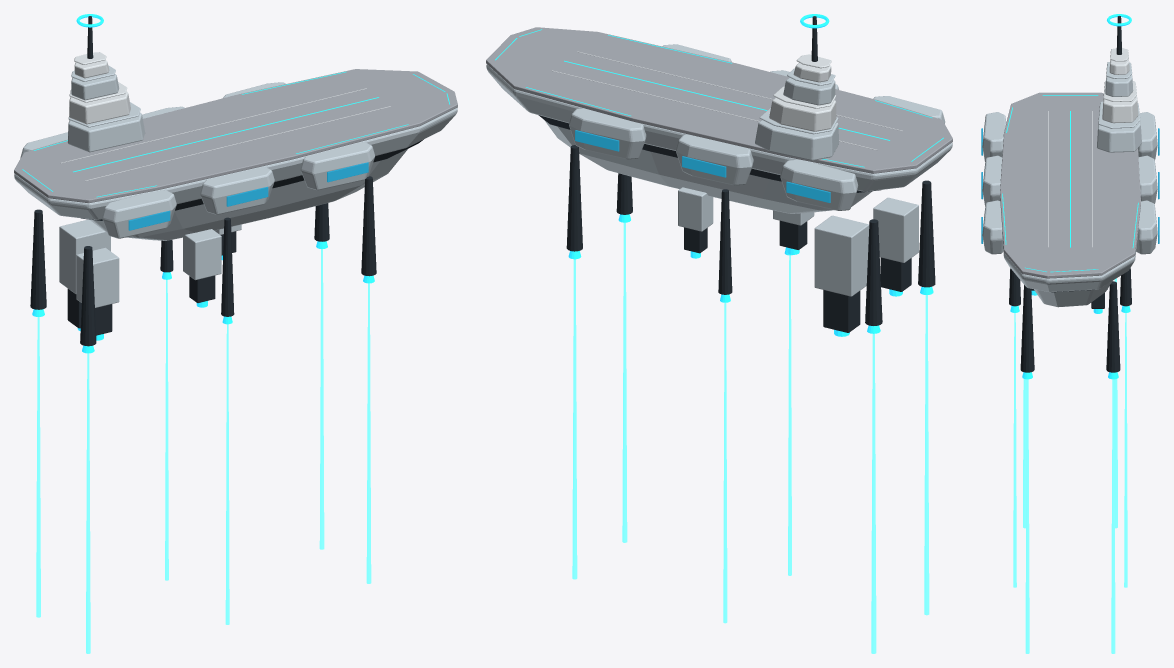
The model's file is vanguard-ozone-base-v3-lod1.glb.
3 views of the same model, side by side, from view 1: azimuth 30°, elevation 25°; view 2: azimuth 150°, elevation 25°; view 3: azimuth 270°, elevation 25° (orthographic). The views are drawn at different scales.
Visible parts, largest first — view 1: vanguard_ozone_base__lod1__Vanguard deck surface far, vanguard_ozone_base__lod1__Vanguard hull plating far, vanguard_ozone_base__lod1__Vanguard structural frame far, vanguard_ozone_base__lod1__Vanguard lift beam far, vanguard_ozone_base__lod1__Vanguard light armor far, vanguard_ozone_base__lod1__Vanguard emissive guidance far, vanguard_ozone_base__lod1__Vanguard recessed glazing far; view 2: vanguard_ozone_base__lod1__Vanguard hull plating far, vanguard_ozone_base__lod1__Vanguard deck surface far, vanguard_ozone_base__lod1__Vanguard structural frame far, vanguard_ozone_base__lod1__Vanguard lift beam far, vanguard_ozone_base__lod1__Vanguard light armor far, vanguard_ozone_base__lod1__Vanguard emissive guidance far, vanguard_ozone_base__lod1__Vanguard recessed glazing far; view 3: vanguard_ozone_base__lod1__Vanguard deck surface far, vanguard_ozone_base__lod1__Vanguard hull plating far, vanguard_ozone_base__lod1__Vanguard lift beam far, vanguard_ozone_base__lod1__Vanguard structural frame far, vanguard_ozone_base__lod1__Vanguard light armor far, vanguard_ozone_base__lod1__Vanguard emissive guidance far, vanguard_ozone_base__lod1__Vanguard recessed glazing far.
Part boxes in pixels (<box>): vanguard_ozone_base__lod1__Vanguard deck surface far: <box>14,69,457,203</box>; vanguard_ozone_base__lod1__Vanguard hull plating far: <box>14,65,457,307</box>; vanguard_ozone_base__lod1__Vanguard structural frame far: <box>30,16,423,346</box>; vanguard_ozone_base__lod1__Vanguard lift beam far: <box>36,249,371,653</box>; vanguard_ozone_base__lod1__Vanguard light armor far: <box>61,52,390,180</box>; vanguard_ozone_base__lod1__Vanguard emissive guidance far: <box>22,14,449,353</box>; vanguard_ozone_base__lod1__Vanguard recessed glazing far: <box>128,162,368,230</box>; vanguard_ozone_base__lod1__Vanguard hull plating far: <box>486,44,952,296</box>; vanguard_ozone_base__lod1__Vanguard deck surface far: <box>486,27,952,173</box>; vanguard_ozone_base__lod1__Vanguard structural frame far: <box>538,16,935,332</box>; vanguard_ozone_base__lod1__Vanguard lift beam far: <box>572,222,929,653</box>; vanguard_ozone_base__lod1__Vanguard light armor far: <box>551,51,902,150</box>; vanguard_ozone_base__lod1__Vanguard emissive guidance far: <box>495,14,943,336</box>; vanguard_ozone_base__lod1__Vanguard recessed glazing far: <box>575,130,830,202</box>; vanguard_ozone_base__lod1__Vanguard deck surface far: <box>1000,92,1140,278</box>; vanguard_ozone_base__lod1__Vanguard hull plating far: <box>982,62,1157,307</box>; vanguard_ozone_base__lod1__Vanguard lift beam far: <box>1013,278,1127,653</box>; vanguard_ozone_base__lod1__Vanguard structural frame far: <box>1009,16,1131,372</box>; vanguard_ozone_base__lod1__Vanguard light armor far: <box>1048,48,1138,247</box>; vanguard_ozone_base__lod1__Vanguard emissive guidance far: <box>1002,14,1138,379</box>; vanguard_ozone_base__lod1__Vanguard recessed glazing far: <box>981,128,1159,243</box>.
Bounding box in the file's own units: 860 × 1170 × 353.
